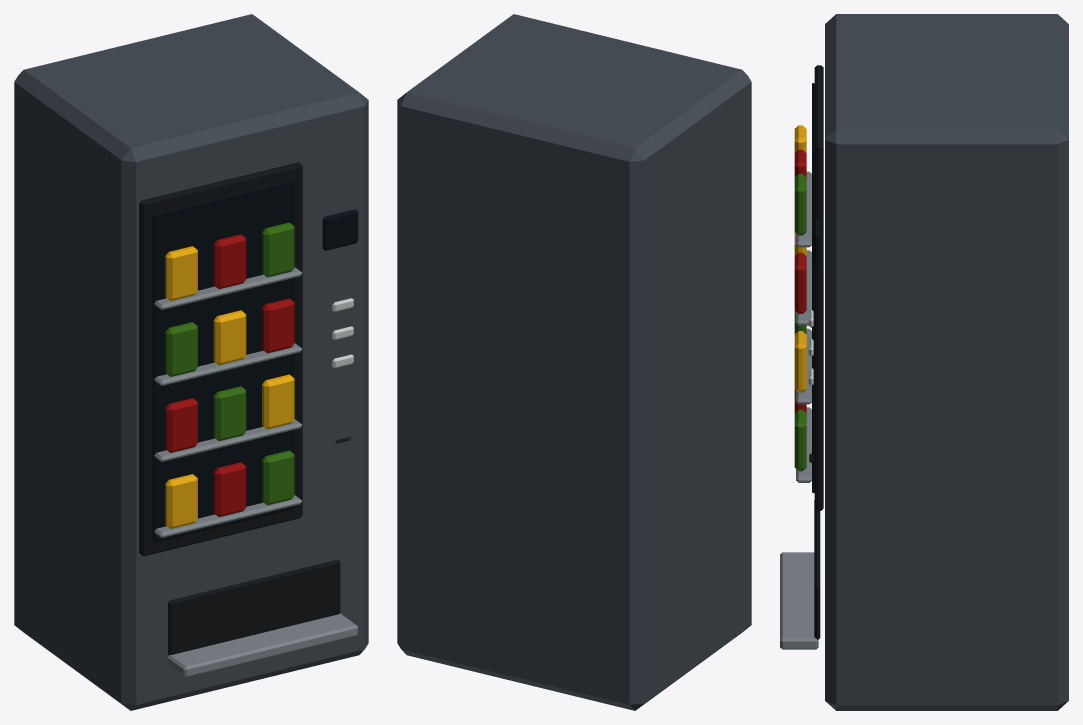
Rendered from SnackVending.fbx.
3 views of the same model, side by side, from view 1: azimuth 30°, elevation 25°; view 2: azimuth 150°, elevation 25°; view 3: azimuth 270°, elevation 25° (orthographic). The views are drawn at different scales.
Visible parts, largest first — view 1: SnackVending; view 2: SnackVending; view 3: SnackVending.
Part boxes in pixels (box(x1,y1,x2,y2)): SnackVending: box(14, 14, 368, 710); SnackVending: box(397, 14, 751, 710); SnackVending: box(780, 14, 1068, 710).
Size of the model in its own units: 92 by 200 by 90.
1 material, 1 textured.
